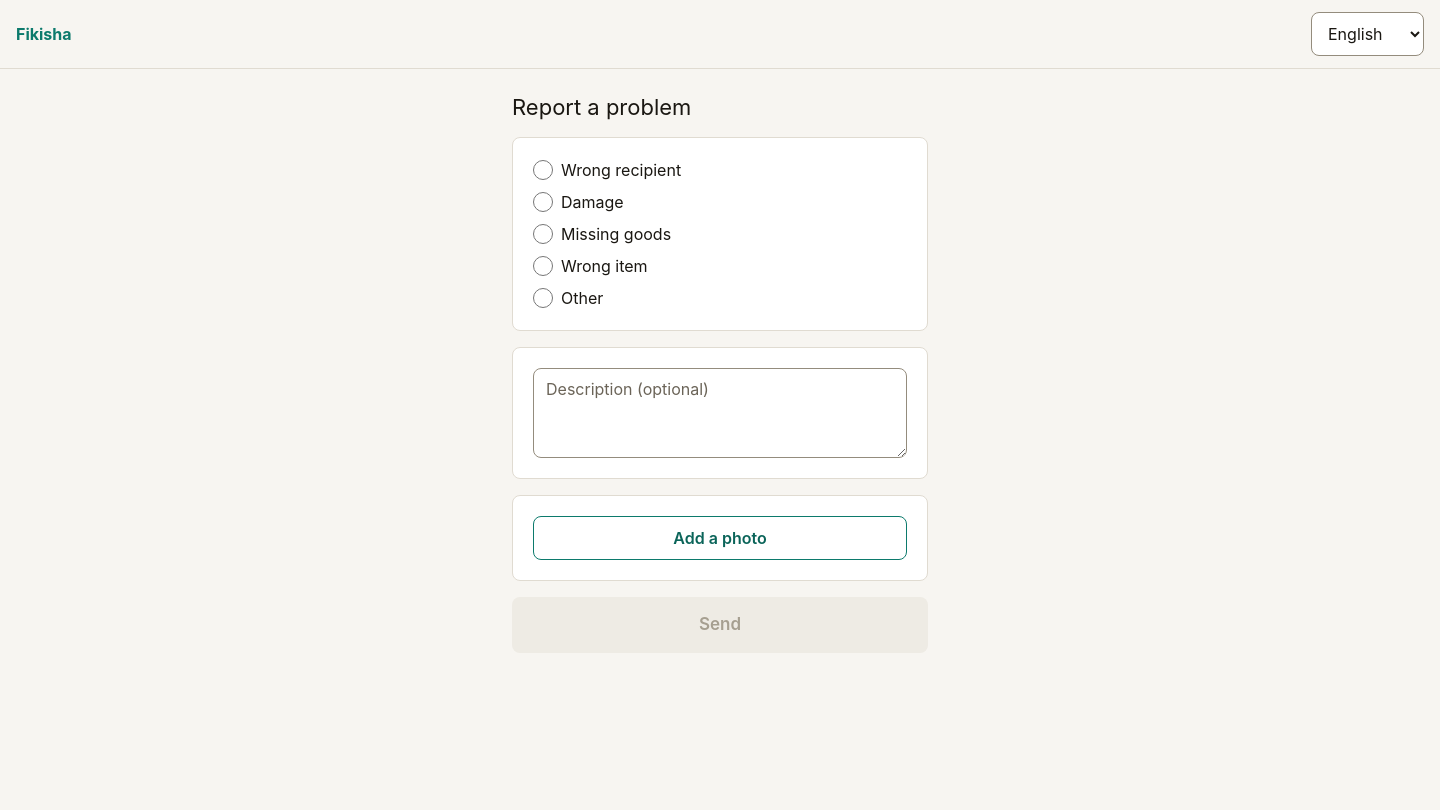
Test: RecipientReportIssuePage › the "Other" text field only appears once Other is selected, and is required to submit
Expected: the button "Send" is disabled, [512,597,928,653]
Expected: the field labelled "Describe the problem" is not shown
Click the radio button labelled "Damage". click: (543, 202)
box: [533,192,553,212]
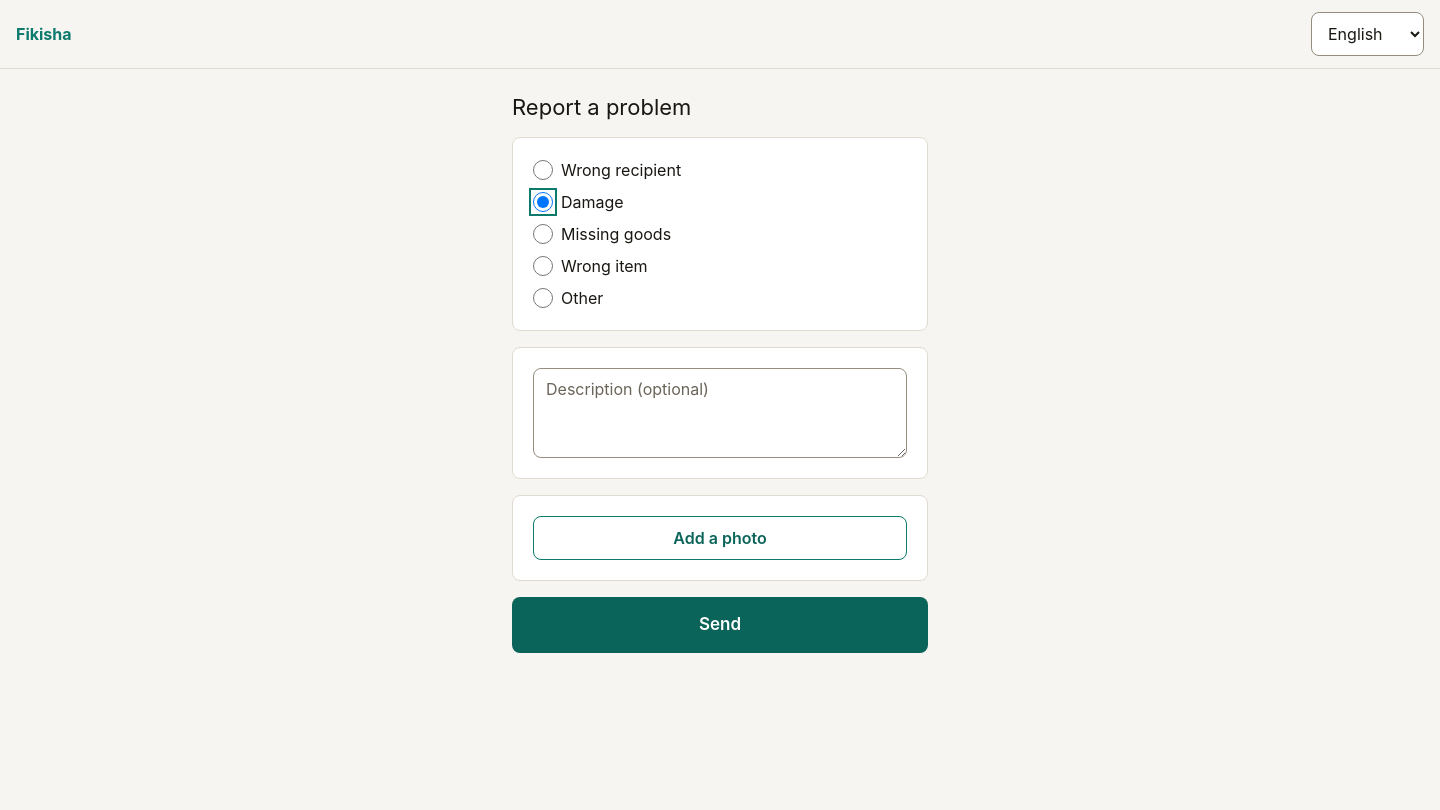
Expected: the button "Send" is enabled, [512,597,928,653]
Click the radio button labelled "Other". click: (543, 298)
box: [533,288,553,308]
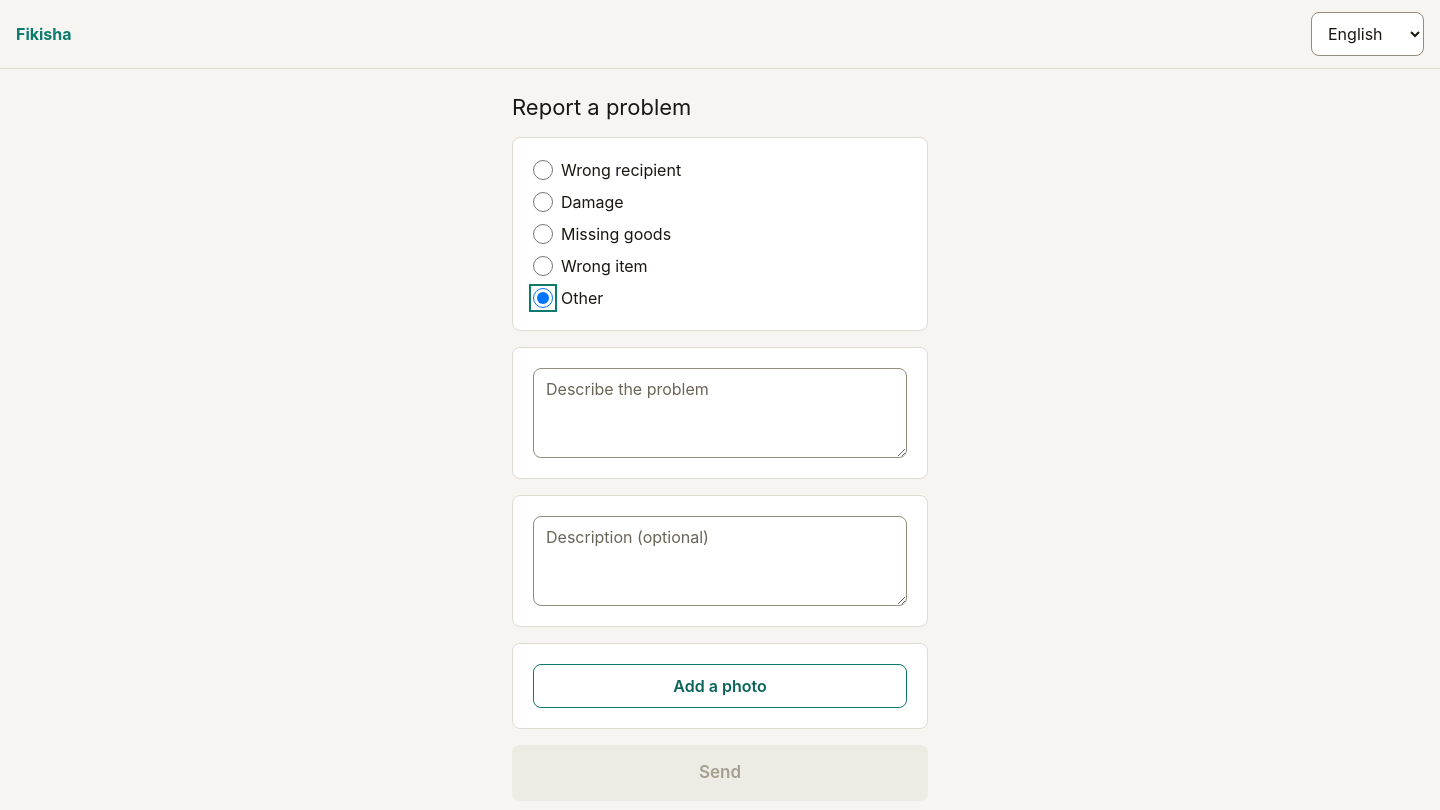
Expected: the button "Send" is disabled, [512,745,928,801]
Type "Left at the wrong gate" into the text box labelled "Describe the problem". click: (720, 413)
box: [533,368,907,458]
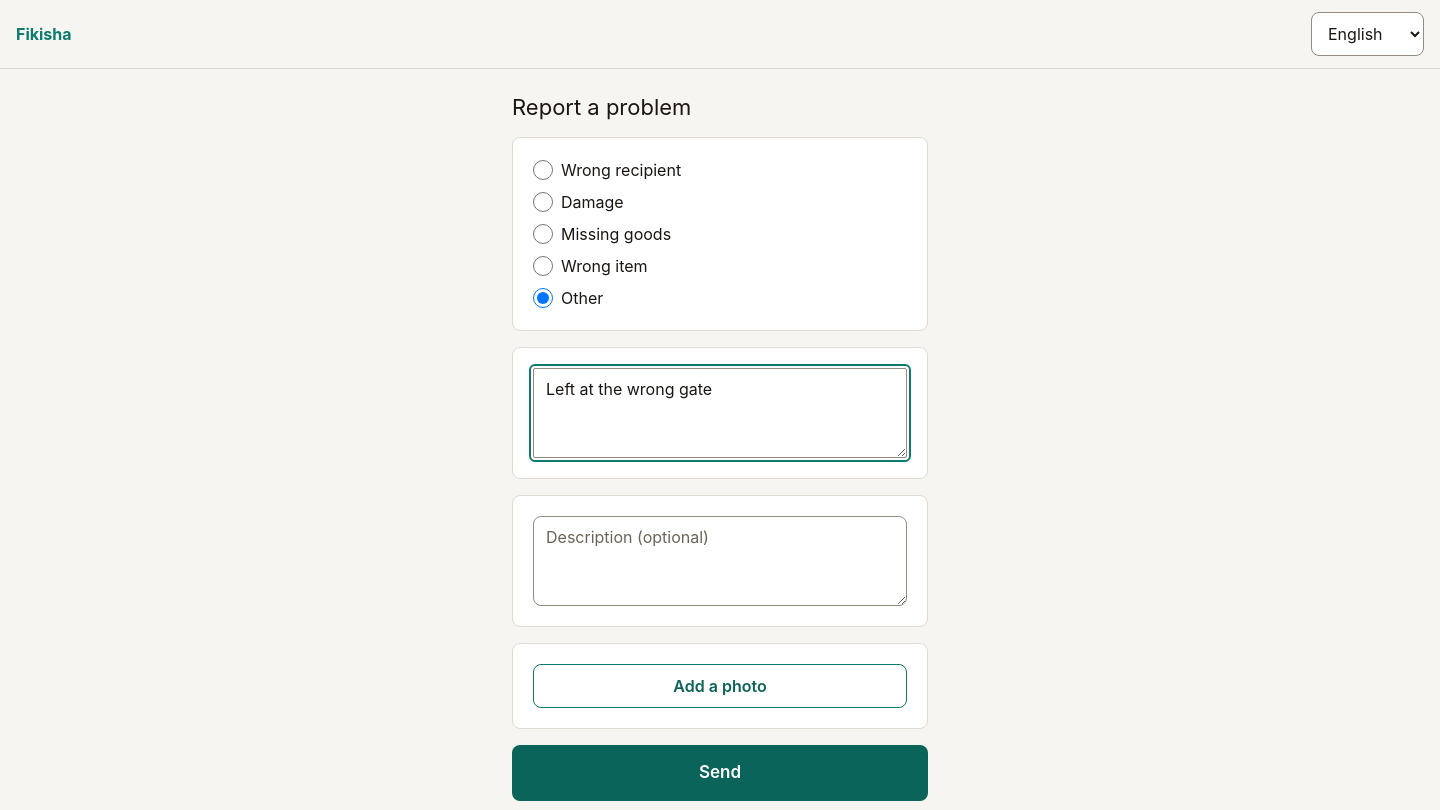
Expected: the button "Send" is enabled, [512,745,928,801]
